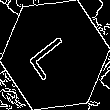L_NE: (28, 28, 82, 82)
